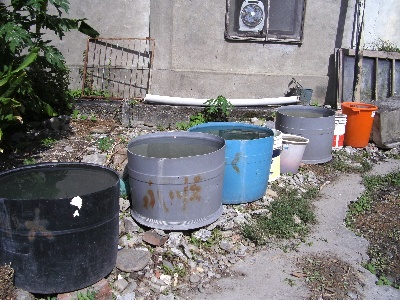bucket: (1, 161, 121, 296), (126, 134, 226, 229), (188, 121, 274, 205), (275, 105, 333, 164), (341, 101, 377, 147), (280, 135, 308, 175), (332, 111, 346, 150)
